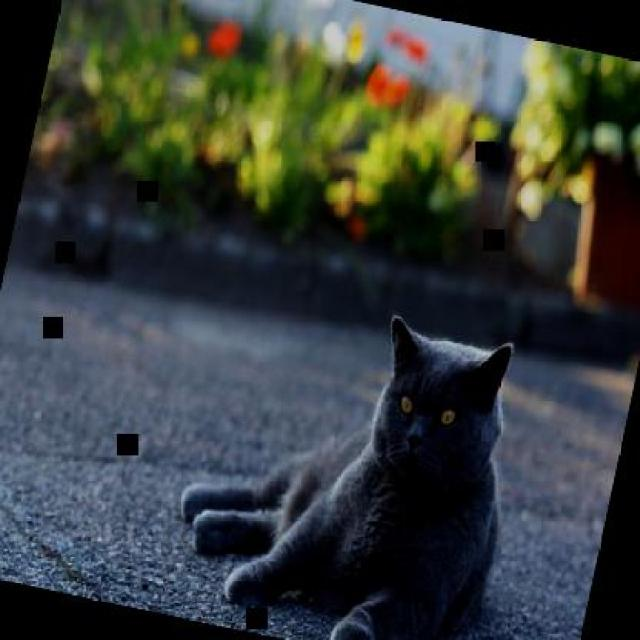cat: (154, 277, 538, 638)
